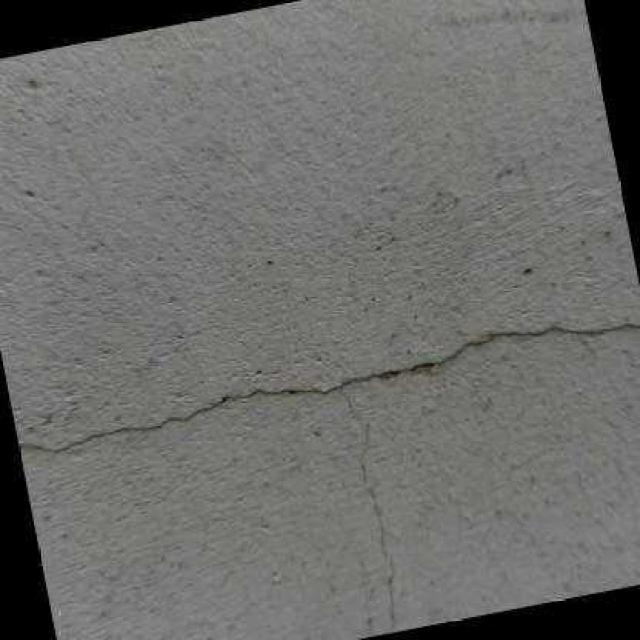D00: (17, 319, 640, 451)
